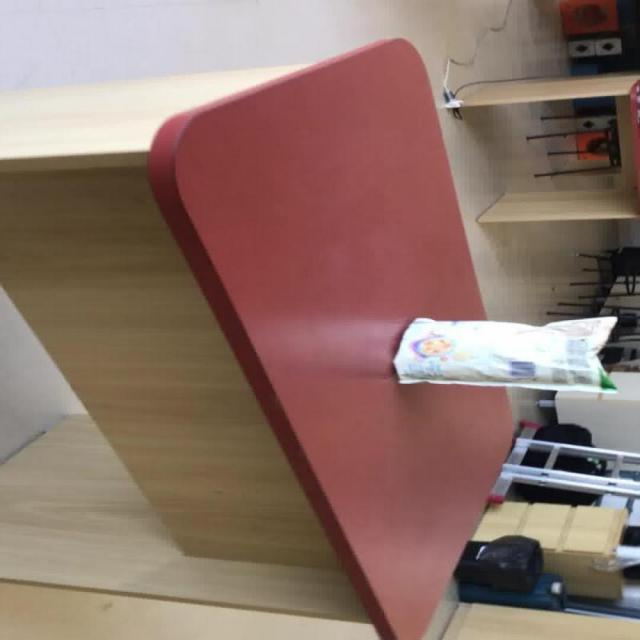CornFlakes: (391, 314, 618, 394)
